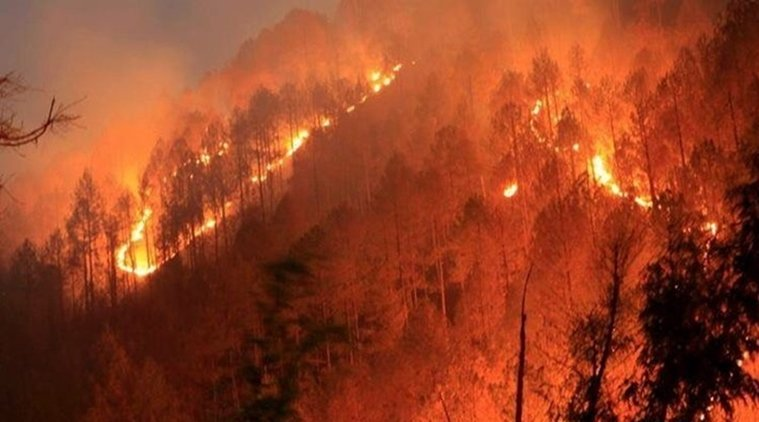fire: (113, 209, 163, 274), (589, 154, 620, 191)
